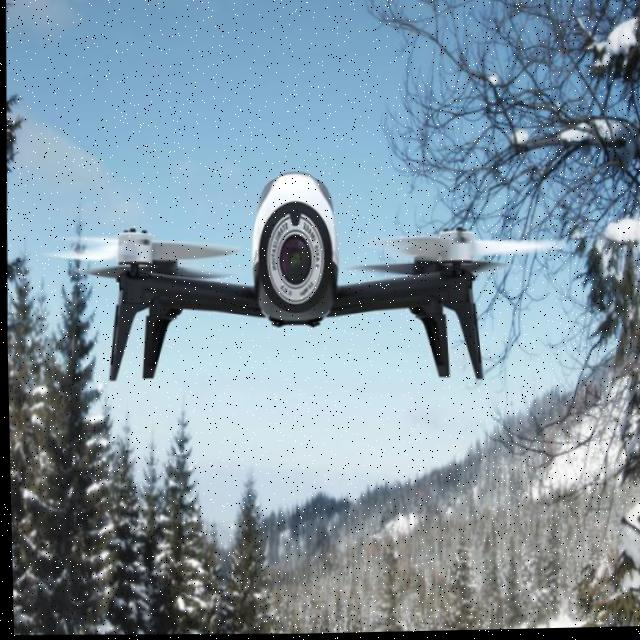drones: (21, 168, 595, 459)
